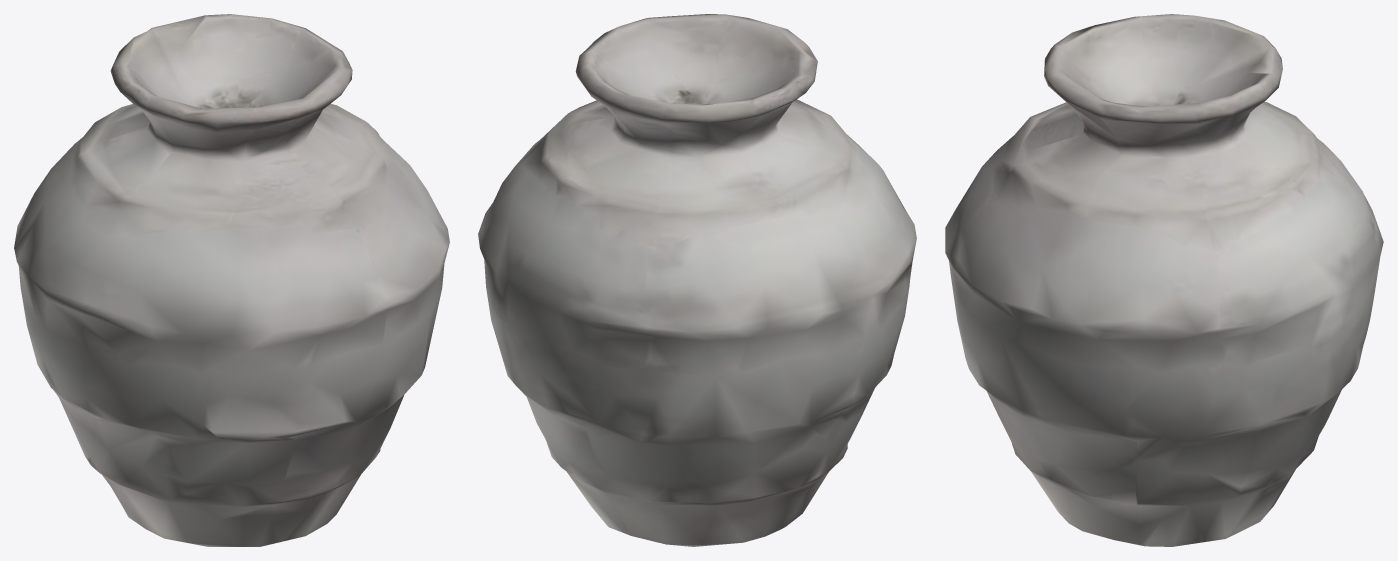
The model's file is clay-vase.lod2.glb.
3 views of the same model, side by side, from view 1: azimuth 30°, elevation 25°; view 2: azimuth 150°, elevation 25°; view 3: azimuth 270°, elevation 25° (orthographic).
Visible parts, largest first — view 1: tripo_node_82a9cff4-524a-489b-9137-df30fb93ca62; view 2: tripo_node_82a9cff4-524a-489b-9137-df30fb93ca62; view 3: tripo_node_82a9cff4-524a-489b-9137-df30fb93ca62.
Part boxes in pixels (bbox=[...]): tripo_node_82a9cff4-524a-489b-9137-df30fb93ca62: bbox=[14, 14, 449, 546]; tripo_node_82a9cff4-524a-489b-9137-df30fb93ca62: bbox=[478, 14, 916, 546]; tripo_node_82a9cff4-524a-489b-9137-df30fb93ca62: bbox=[945, 14, 1383, 546].
Bounding box in the file's own units: 0.3573 × 0.3997 × 0.3571.
1 material, 1 textured.
